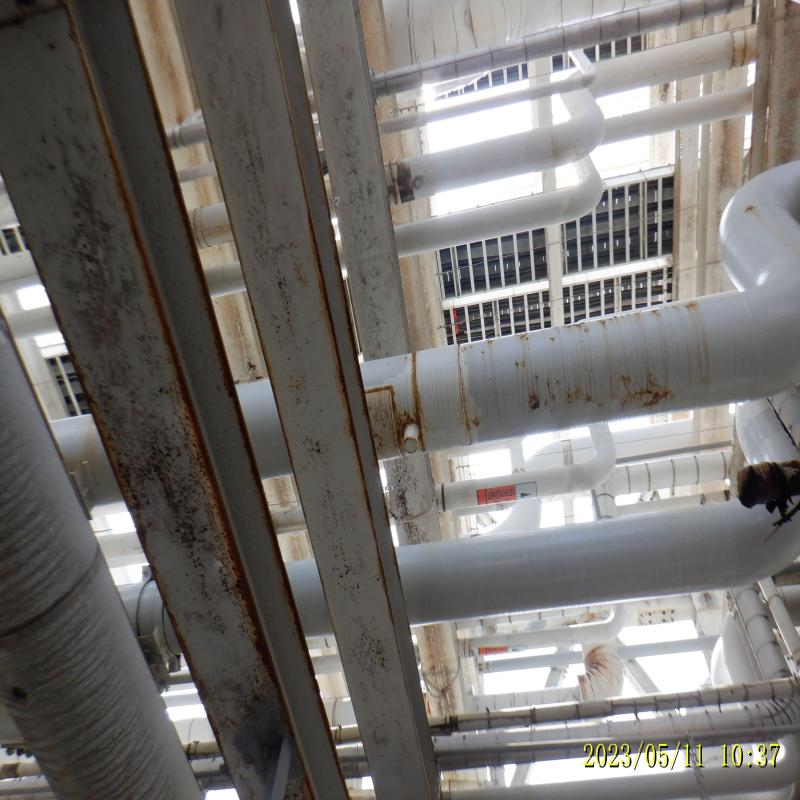corrosion: (199, 439, 216, 488), (171, 363, 189, 400)
